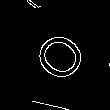O_SE: (23, 22, 92, 88)
